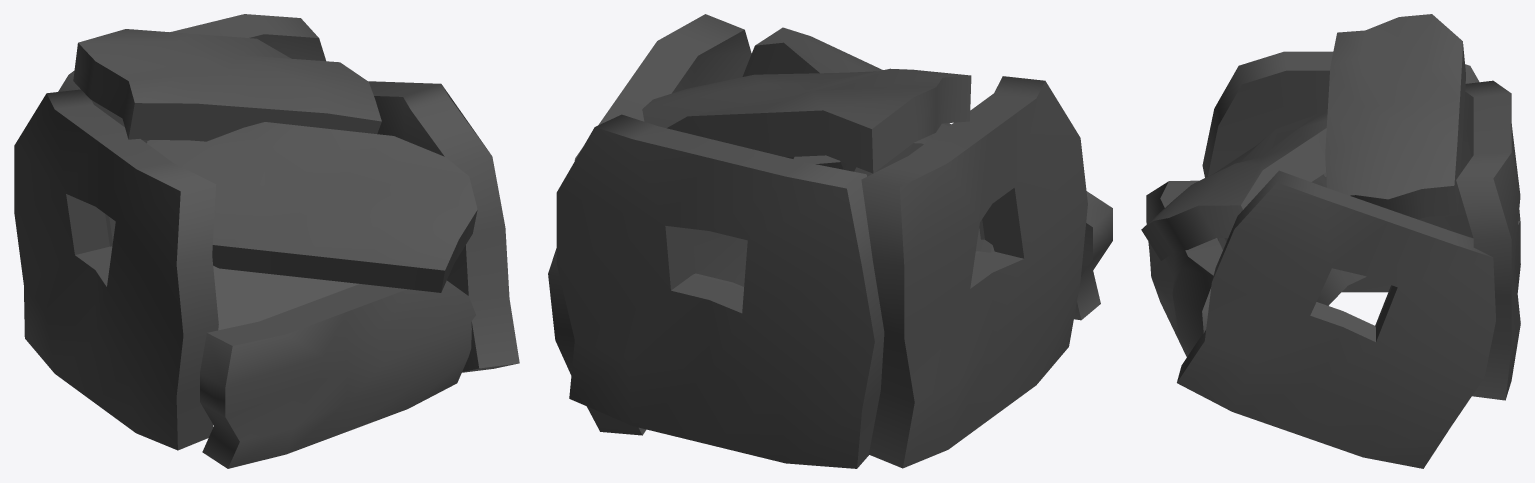
Rendered from Mesh_house_ruins_TL.fbx.
The picture shows the model from 3 angles, left to right: view 1: azimuth 30°, elevation 25°; view 2: azimuth 150°, elevation 25°; view 3: azimuth 270°, elevation 25°; orthographic projection. The views are drawn at different scales.
Visible parts, largest first — view 1: Mesh_House_Ruins_TL; view 2: Mesh_House_Ruins_TL; view 3: Mesh_House_Ruins_TL.
Part boxes in pixels (x1,y1,x2,y2): Mesh_House_Ruins_TL: (14,14,519,468); Mesh_House_Ruins_TL: (548,14,1112,468); Mesh_House_Ruins_TL: (1141,14,1520,468).
Size of the model in its own units: 738 by 782 by 812.
